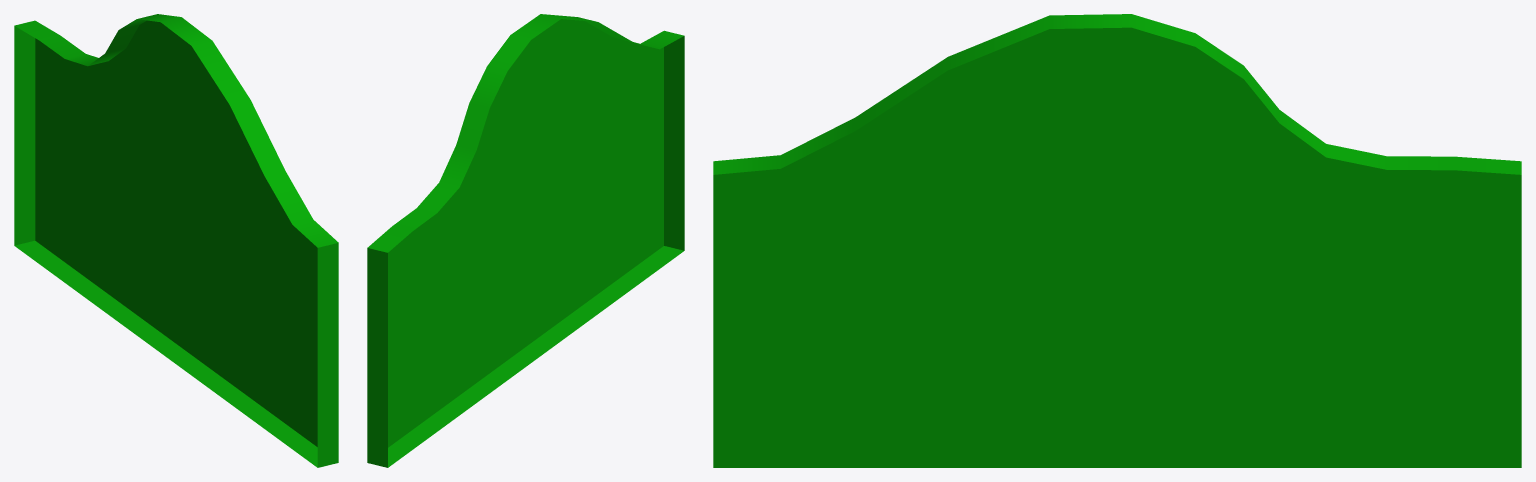
File: slope_right.fbx
3 renders of one model, left to right at view 1: azimuth 30°, elevation 25°; view 2: azimuth 150°, elevation 25°; view 3: azimuth 270°, elevation 25°, orthographic. The views are drawn at different scales.
Parts seen in each view (by area): view 1: slope_right; view 2: slope_right; view 3: slope_right.
Boxes of the visible parts, left/top/right/bottom form: slope_right: left=14, top=14, right=338, bottom=467; slope_right: left=367, top=14, right=684, bottom=467; slope_right: left=713, top=14, right=1521, bottom=467.
Bounding box in the file's own units: 1 × 15.03 × 25.
